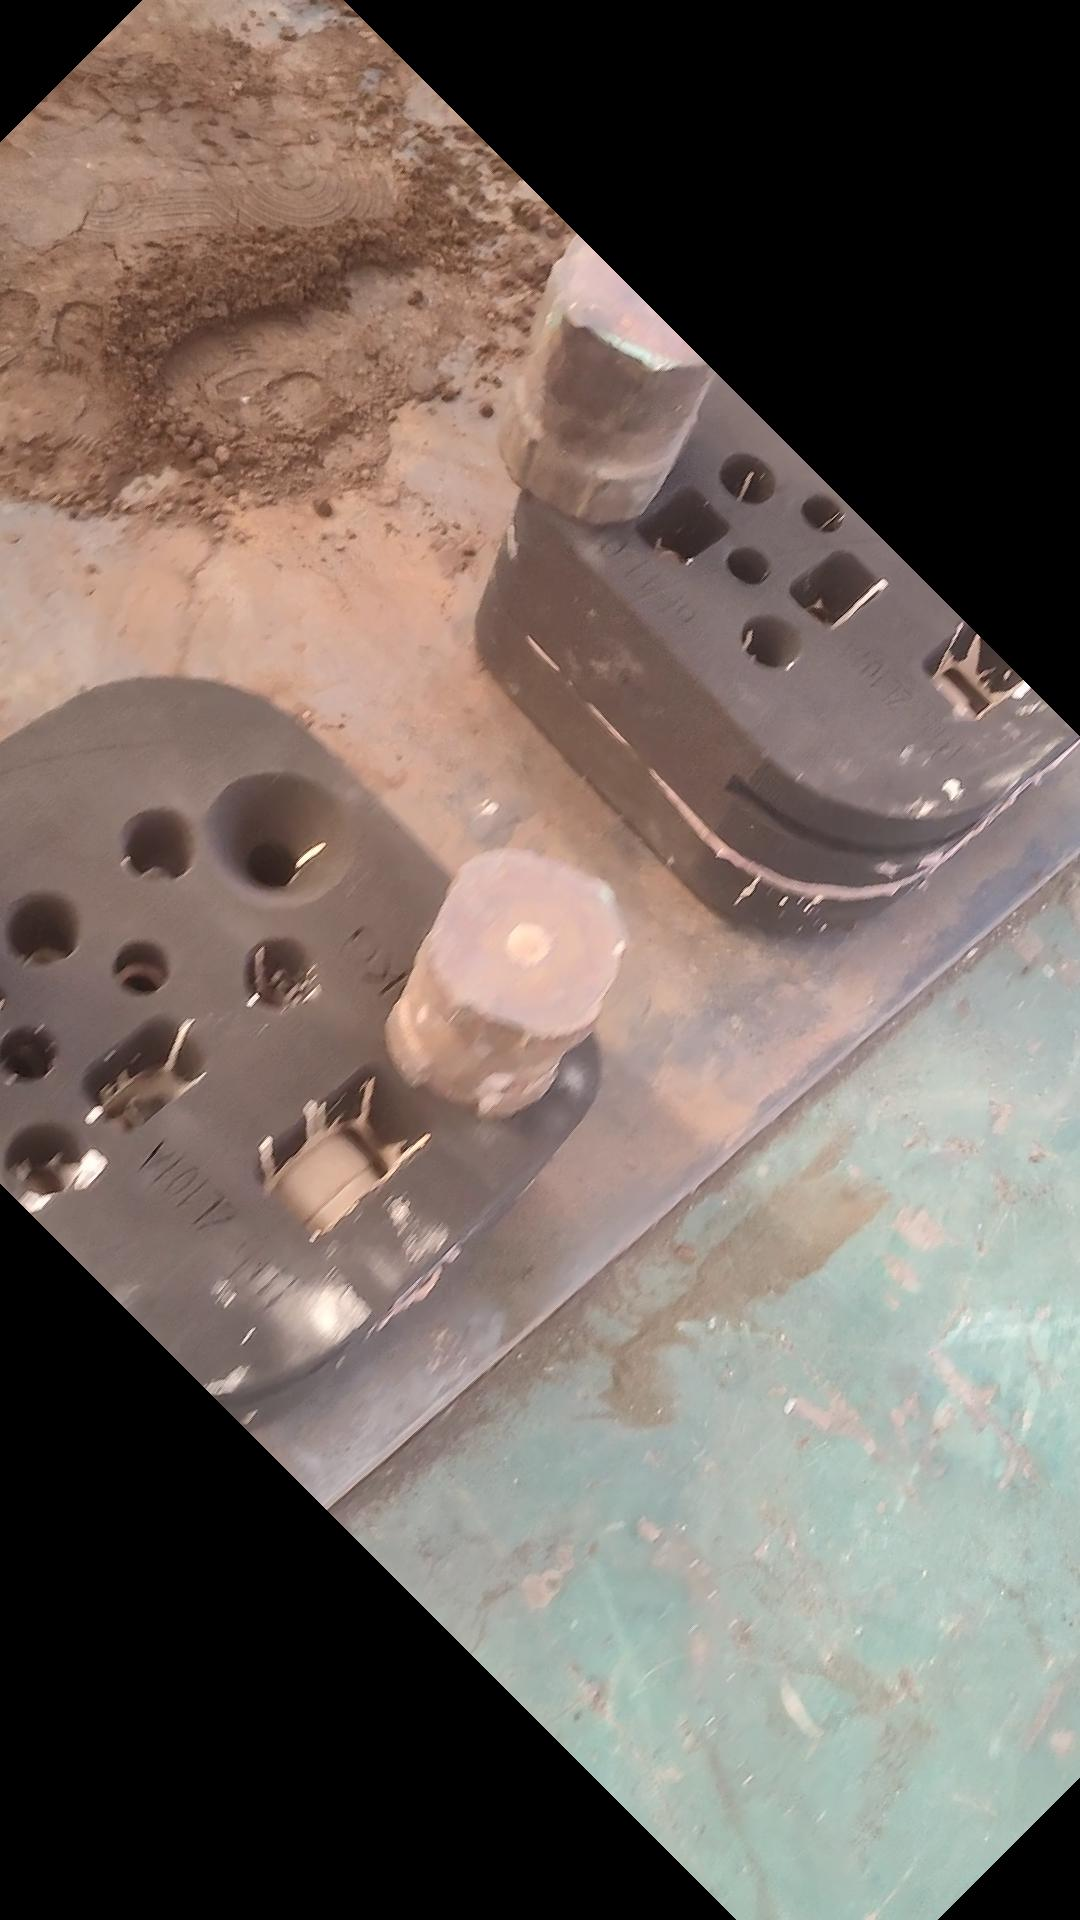pouring hole: (202, 771, 357, 909)
